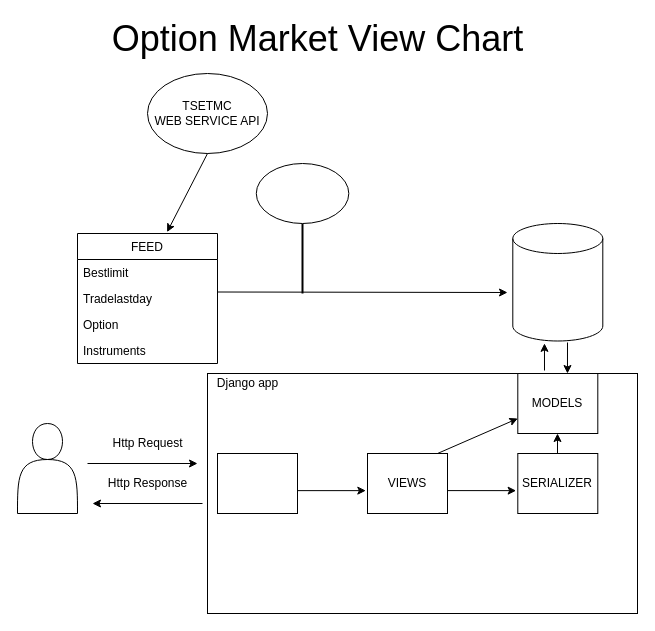
This 655x631 diagram has some shape labels left out. Here are the shapes that lost their labels. From the top down, the box of each, then its label:
(255, 162, 349, 224): SCHEDULER
(512, 222, 603, 341): DATABASE
(216, 452, 298, 514): URL PATTERNS
